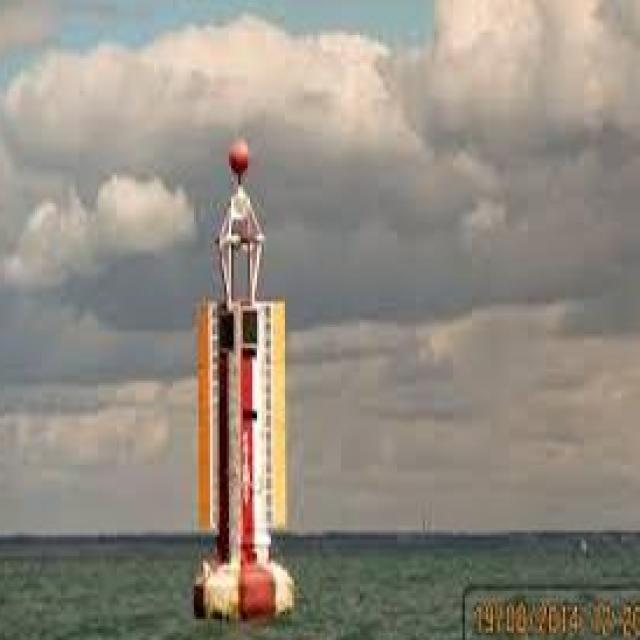buoy: (169, 138, 314, 619)
